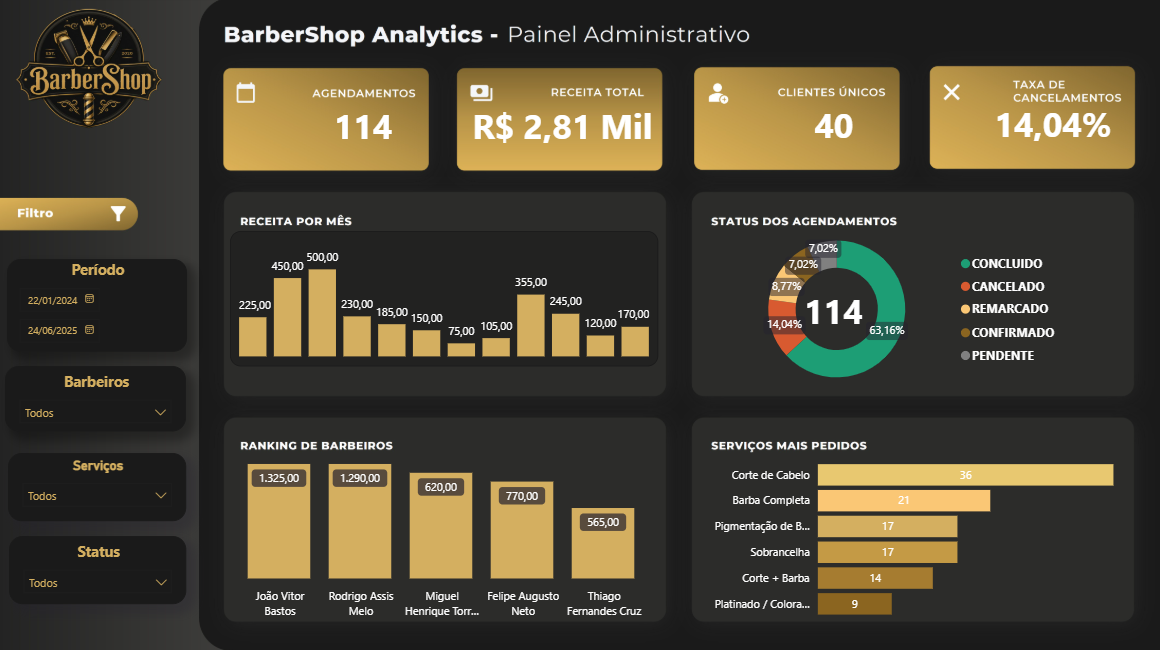

This screenshot's page, from the dashboard's own definition file:
{"tool":"powerbi","page":{"name":"Dashboard","canvas":[1280,720],"ordinal":0},"visuals":[{"type":"cardVisual","fields":{"Data":["Medida.Total Agendamentos"]},"box":[312.2,74.4,178.9,132.2],"z":0},{"type":"cardVisual","fields":{"Data":["Medida.Receita Total"]},"box":[481.1,63.3,278.9,154.4],"z":1000},{"type":"cardVisual","fields":{"Data":["Medida.Clientes Unicos"]},"box":[828.9,62.2,180,155.6],"z":2000},{"type":"cardVisual","fields":{"Data":["Medida.Taxa Cancelamento"]},"box":[1047.8,60,224.4,157.8],"z":3000},{"type":"donutChart","fields":{"Category":["agendamento.status"],"Y":["Medida.Total Agendamentos"]},"box":[782,233,394,222],"z":4000},{"type":"clusteredBarChart","fields":{"Category":["servico.nome"],"Y":["Medida.Total Agendamentos"]},"box":[767.5,490,485.8,206.7],"z":5000},{"type":"lineStackedColumnComboChart","fields":{"Category":["barbeiro.Nome Barbeiro"],"Y":["Medida.Atendimentos Barbeiro"]},"box":[220,477.1,522.9,214.3],"z":6000},{"type":"cardVisual","fields":{"Data":["Medida.Total Agendamentos"]},"box":[835,281,168,125],"z":7000},{"type":"clusteredColumnChart","fields":{"Category":["agendamento.data_hora_inicio.Variation.Hierarquia de datas.Mês"],"Y":["Medida.Receita Total"]},"box":[255.6,258.9,471.1,148.9],"z":8000},{"type":"slicer","title":"Período","fields":{"Values":["agendamento.data_hora_inicio"]},"box":[9.4,289.1,198.1,101.7],"z":9000},{"type":"actionButton","box":[0,217.8,153.3,41.1],"z":10000},{"type":"slicer","title":"Barbeiros","fields":{"Values":["barbeiro.Nome Barbeiro"]},"box":[8.2,406.4,199.1,71.8],"z":11000},{"type":"slicer","title":"Serviços","fields":{"Values":["servico.nome"]},"box":[10.8,502,196.3,75],"z":12000},{"type":"slicer","title":"Status","fields":{"Values":["agendamento.status"]},"box":[11.8,593.8,195.3,75],"z":13000}]}

Visuals, with their boxes in screenshot pixels (x1, y1, x2, y2), scaled from the page's 1280x720 canvas onto the 1160x650 screenshot:
cardVisual - Medida.Total Agendamentos: <box>283,67,445,187</box>
cardVisual - Medida.Receita Total: <box>436,57,689,197</box>
cardVisual - Medida.Clientes Unicos: <box>751,56,914,197</box>
cardVisual - Medida.Taxa Cancelamento: <box>950,54,1153,197</box>
donutChart - agendamento.status x Medida.Total Agendamentos: <box>709,210,1066,411</box>
clusteredBarChart - servico.nome x Medida.Total Agendamentos: <box>696,442,1136,629</box>
lineStackedColumnComboChart - barbeiro.Nome Barbeiro x Medida.Atendimentos Barbeiro: <box>199,431,673,624</box>
cardVisual - Medida.Total Agendamentos: <box>757,254,909,367</box>
clusteredColumnChart - agendamento.data_hora_inicio.Variation.Hierarquia de datas.Mês x Medida.Receita Total: <box>232,234,659,368</box>
"Período" slicer: <box>9,261,188,353</box>
actionButton: <box>0,197,139,234</box>
"Barbeiros" slicer: <box>7,367,188,432</box>
"Serviços" slicer: <box>10,453,188,521</box>
"Status" slicer: <box>11,536,188,604</box>
